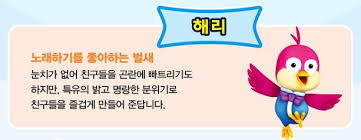Harry: (246, 26, 343, 139)
